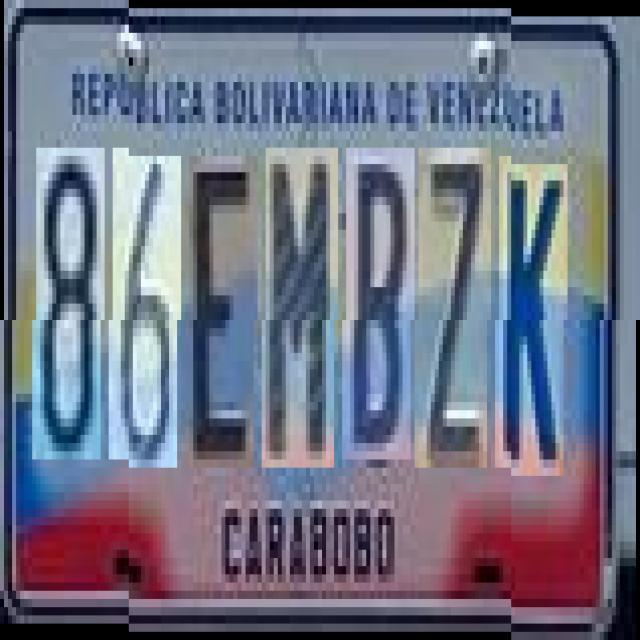6: (112, 156, 182, 468)
8: (36, 156, 105, 468)
B: (346, 148, 414, 460)
E: (189, 156, 258, 468)
K: (500, 156, 568, 468)
M: (266, 148, 338, 468)
Z: (418, 148, 492, 468)
